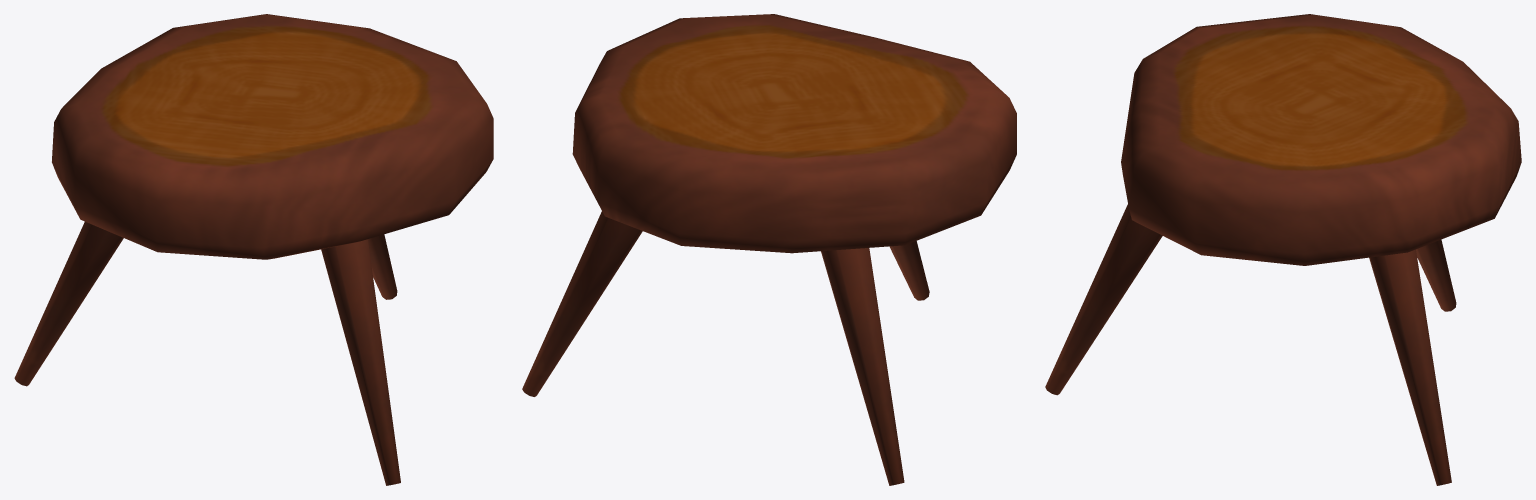
File: Banco.fbx
The picture shows the model from 3 angles, left to right: view 1: azimuth 30°, elevation 25°; view 2: azimuth 150°, elevation 25°; view 3: azimuth 270°, elevation 25°; orthographic projection.
Parts seen in each view (by area): view 1: Banco; view 2: Banco; view 3: Banco.
Boxes of the visible parts, left/top/right/bottom form: Banco: left=14, top=14, right=493, bottom=485; Banco: left=522, top=14, right=1016, bottom=485; Banco: left=1045, top=14, right=1521, bottom=485.
Size of the model in its own units: 45.7 by 33.11 by 48.41.
Materials: 1 (1 with a texture image).
